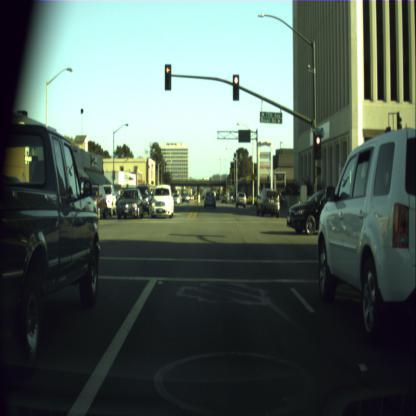Red: (232, 74, 239, 100), (314, 134, 321, 160)
RedLeft: (164, 64, 171, 90)
